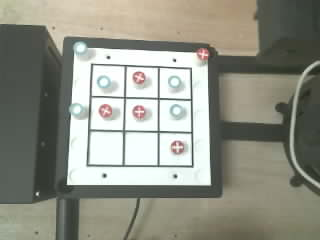blue circle: (73, 41, 87, 55), (170, 104, 183, 118), (69, 103, 83, 116), (97, 75, 110, 88), (168, 76, 181, 88)
board: (67, 41, 211, 185)
cells: (125, 132, 157, 165), (90, 97, 123, 129), (89, 132, 122, 164), (159, 133, 191, 165), (91, 65, 124, 96), (159, 100, 191, 131), (125, 99, 157, 130), (159, 68, 190, 98), (126, 67, 157, 97)
grid: (86, 64, 193, 167)
red cross: (132, 105, 145, 119), (171, 140, 183, 153), (133, 71, 145, 84), (196, 48, 209, 60), (99, 104, 111, 117)
